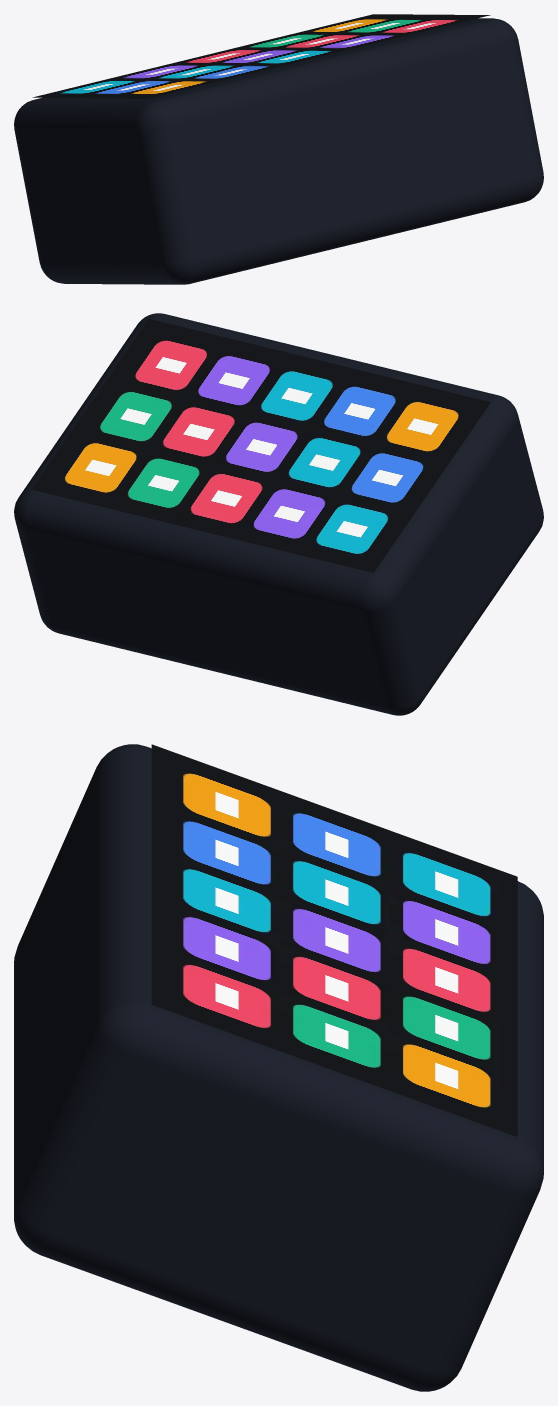
The model's file is atelier-gaming-streamdeck-cyber.glb.
3 views of the same model, one above another, from view 1: azimuth 30°, elevation 25°; view 2: azimuth 150°, elevation 25°; view 3: azimuth 270°, elevation 25° (orthographic). The views are drawn at different scales.
Visible parts, largest first — view 1: object 1, Gaming macro key display; view 2: object 1, Gaming macro key display; view 3: object 1, Gaming macro key display.
Boxes of the visible parts, bbox=[...] form: object 1: bbox=[14, 18, 543, 284]; Gaming macro key display: bbox=[32, 14, 490, 98]; object 1: bbox=[14, 313, 543, 715]; Gaming macro key display: bbox=[31, 319, 490, 572]; object 1: bbox=[14, 744, 543, 1391]; Gaming macro key display: bbox=[151, 744, 517, 1136].
Bounding box in the file's own units: 0.135 × 0.0844 × 0.1049.
2 materials, 1 textured.
